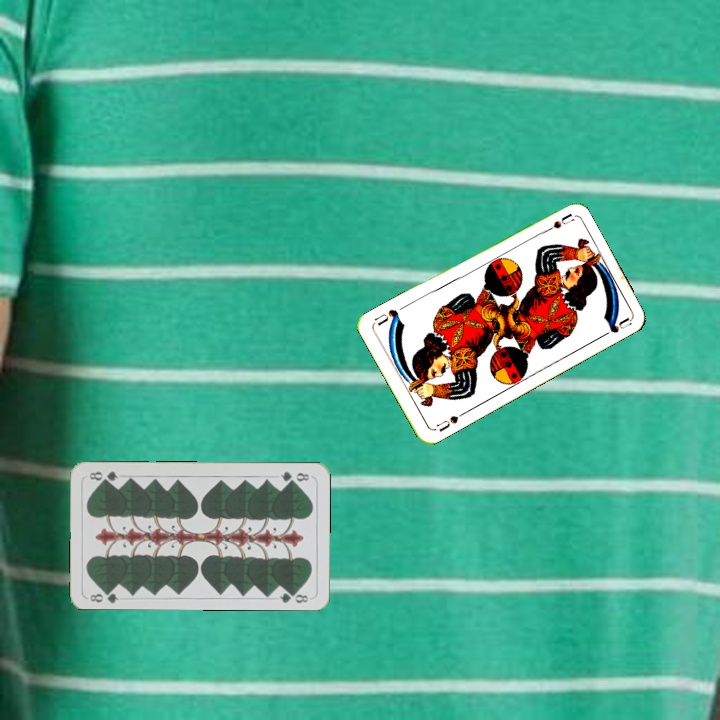G8: (86, 585, 121, 605), (277, 467, 312, 485)
SU: (536, 210, 575, 237), (432, 408, 467, 435)
